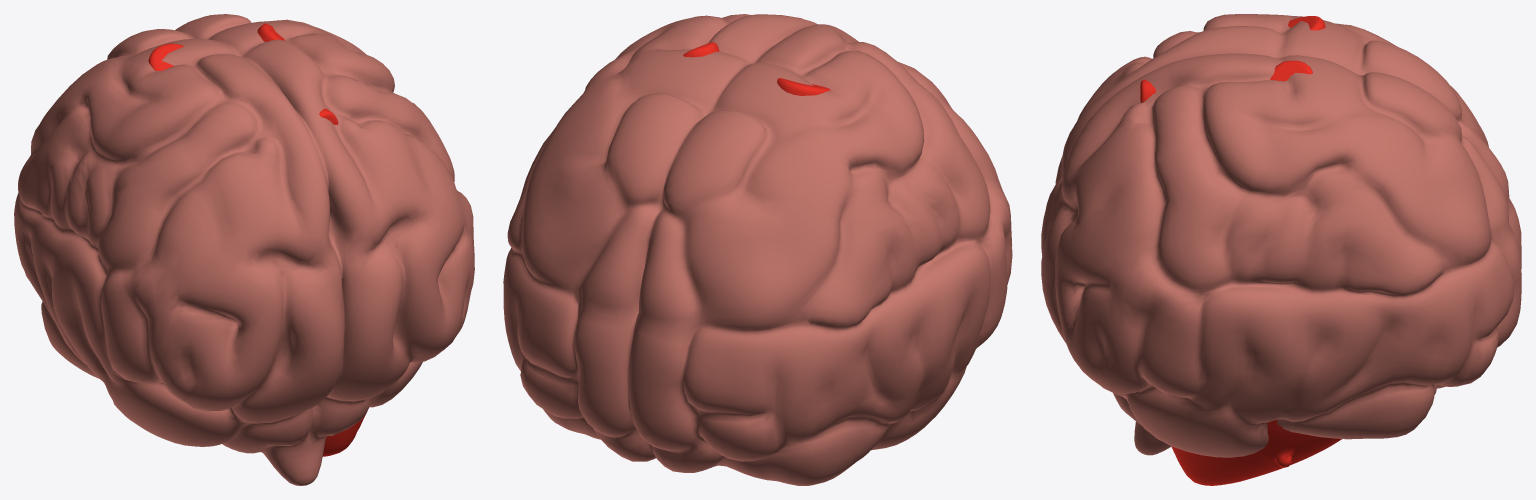
Rendered from Brain.fbx.
3 renders of one model, left to right at view 1: azimuth 30°, elevation 25°; view 2: azimuth 150°, elevation 25°; view 3: azimuth 270°, elevation 25°, orthographic. The views are drawn at different scales.
Visible parts, largest first — view 1: model.001, model; view 2: model.001, model; view 3: model.001, model.
Part boxes in pixels (box(x1,y1,x2,y2)): model.001: box(14, 14, 474, 485); model: box(148, 23, 368, 456); model.001: box(503, 14, 1012, 485); model: box(683, 42, 830, 95); model.001: box(1041, 14, 1521, 457); model: box(1140, 16, 1341, 485).
Bounding box in the file's own units: 97.25 × 100 × 106.
